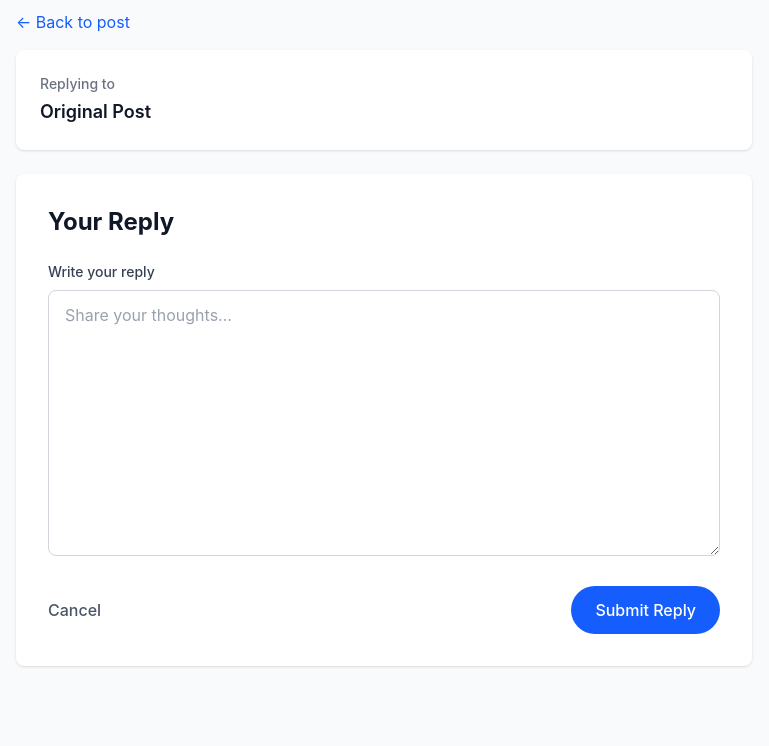
Test: ComposeReply › shows error on addReply failure
Check: the heading "Your Reply" is shown, box [48, 207, 174, 236]
Type "Reply" into the text box labelled "Write your reply" at (384, 423), box [48, 290, 720, 556]
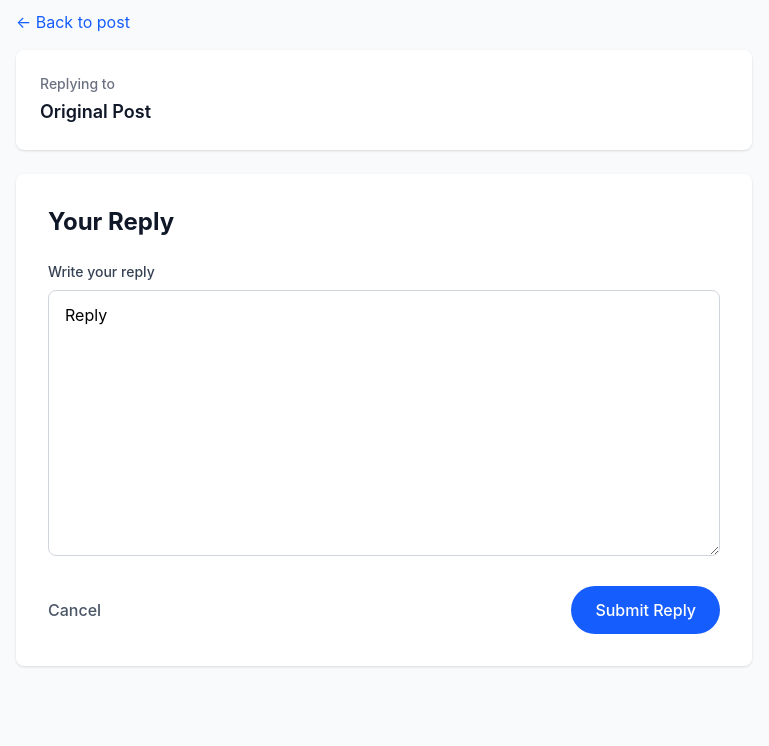
Click the button "Submit Reply" at (646, 610), box [571, 586, 720, 634]
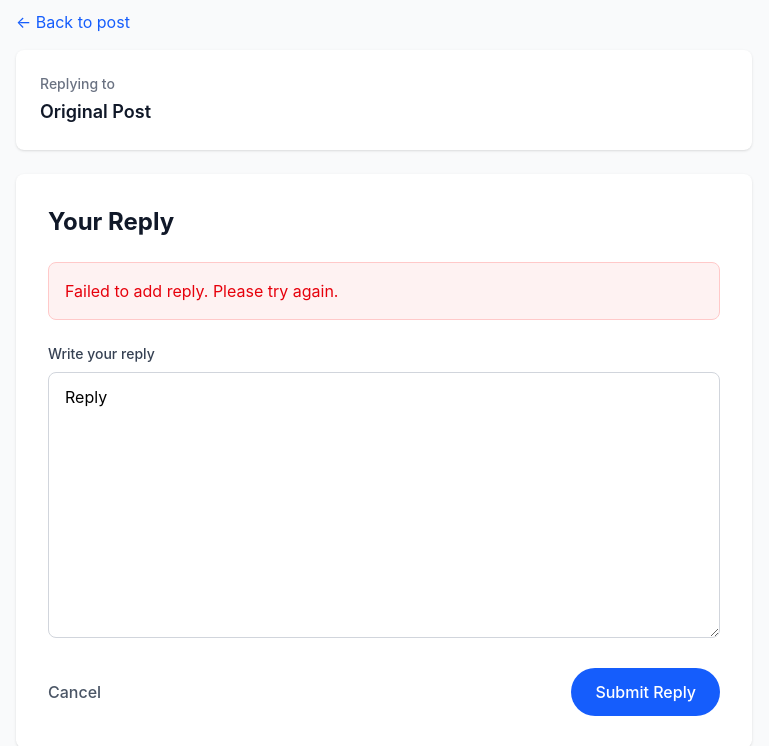
Check: the text "Failed to add reply. Please try again." is shown, box [65, 281, 338, 301]
